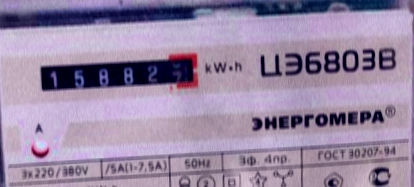1: (44, 68, 57, 87)
2: (143, 63, 156, 82)
5: (69, 67, 82, 88)
7: (168, 69, 180, 83)
8: (94, 65, 107, 87), (119, 64, 132, 86)
screen: (29, 47, 205, 99)
